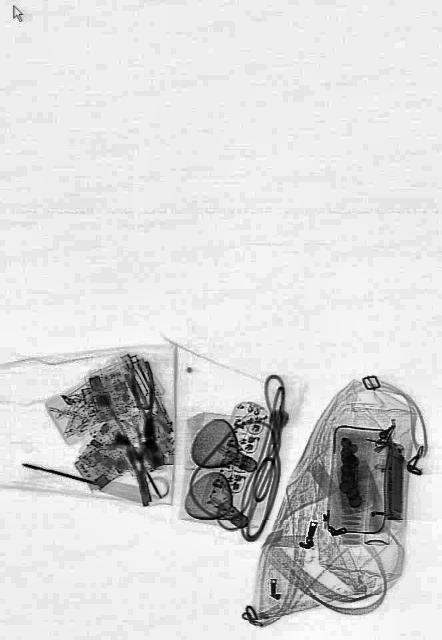Pliers: (127, 360, 164, 444)
